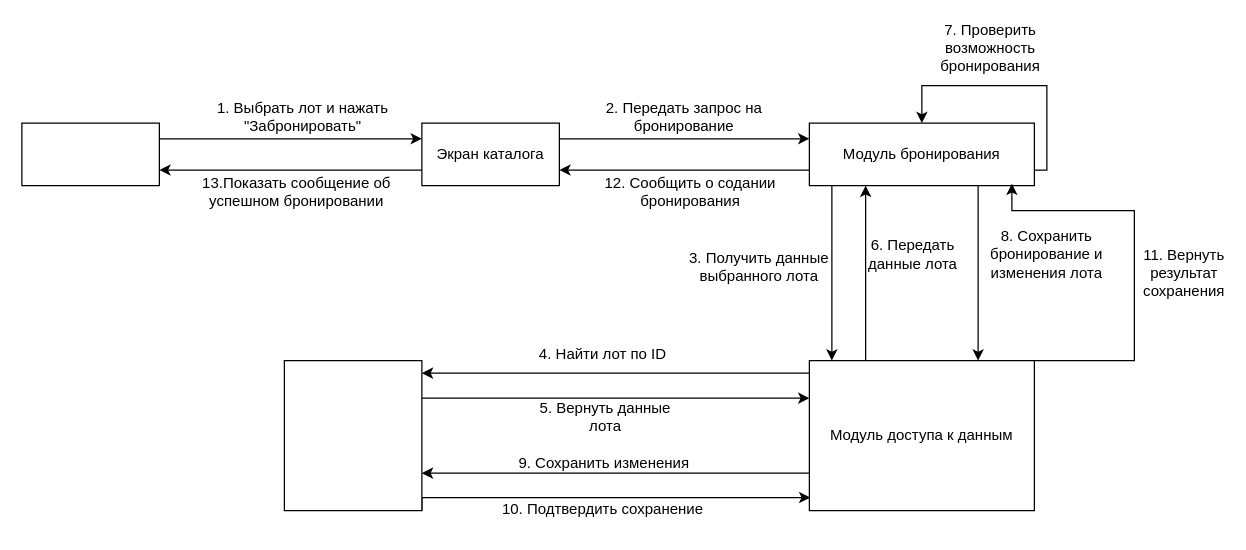
This 1246x550 diagram has some shape labels left out. The box of each missing label's shape, as (x1, y1, x2, y2) in pixels:
БД: (283, 359, 422, 511)
Покупатель: (21, 122, 159, 186)
